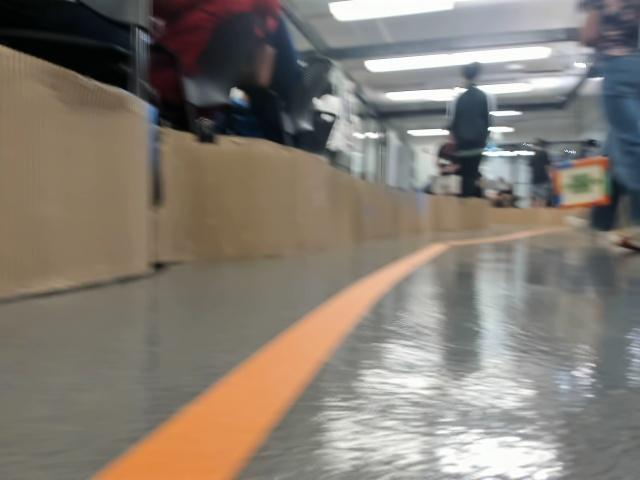Go Around: (564, 170, 598, 195)
